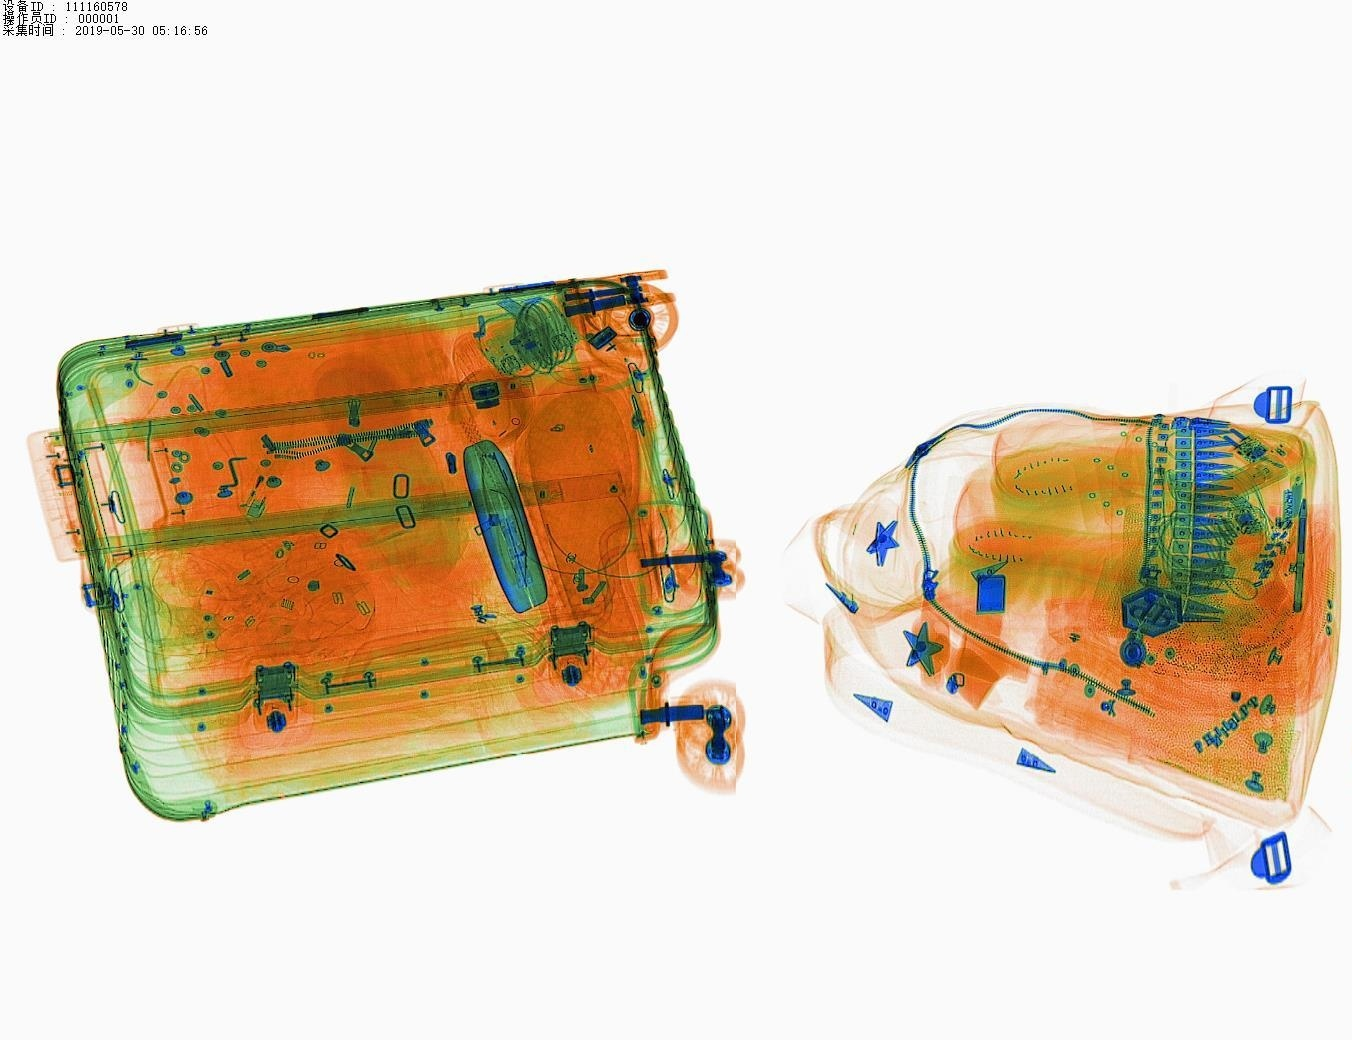NonmetallicFire: (239, 439, 312, 532)
